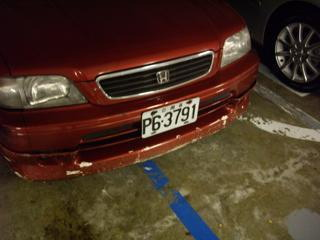plate: (141, 96, 198, 137)
